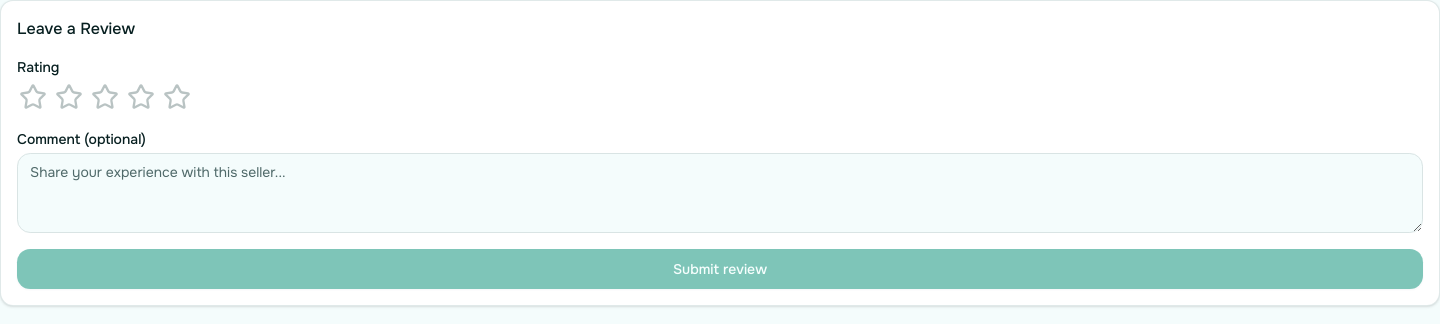
Test case: <LeaveReviewForm /> › submit button becomes enabled after choosing a star rating
Note: Click the 3rd star (aria-label "3 star")
Click the button named "star".
click(105, 97)  # box [89, 81, 121, 113]
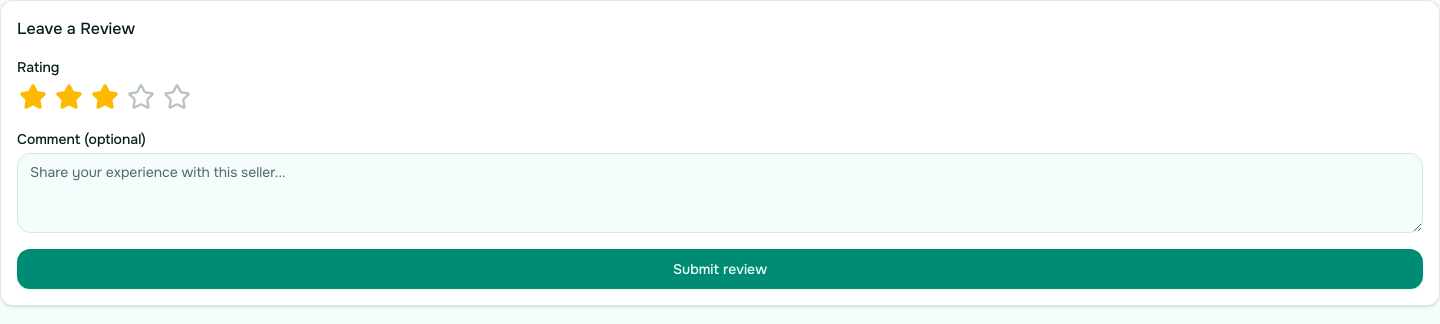
Expected: the button "Submit review" is enabled, [17, 249, 1423, 289]
